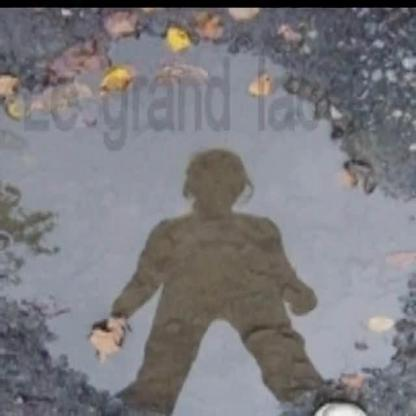other: (91, 27, 342, 185)
